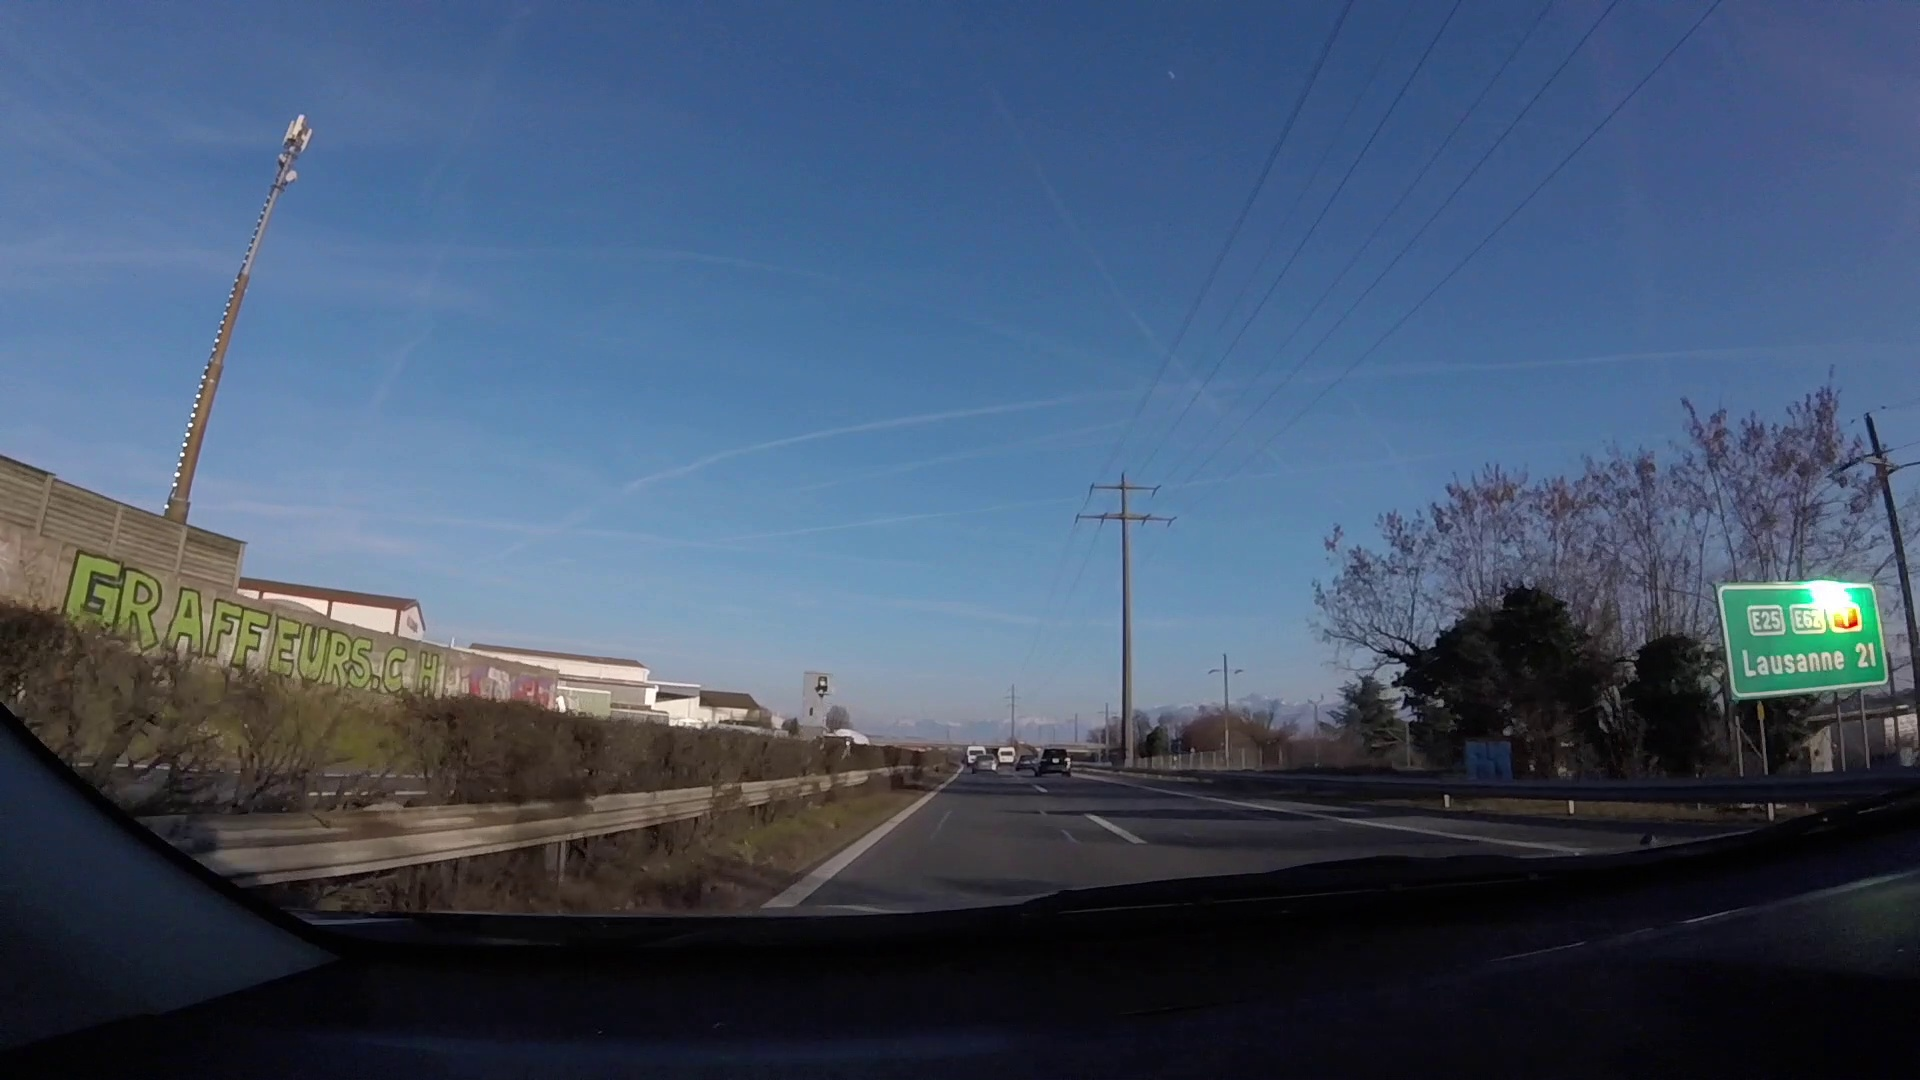radar: (800, 669, 835, 746)
